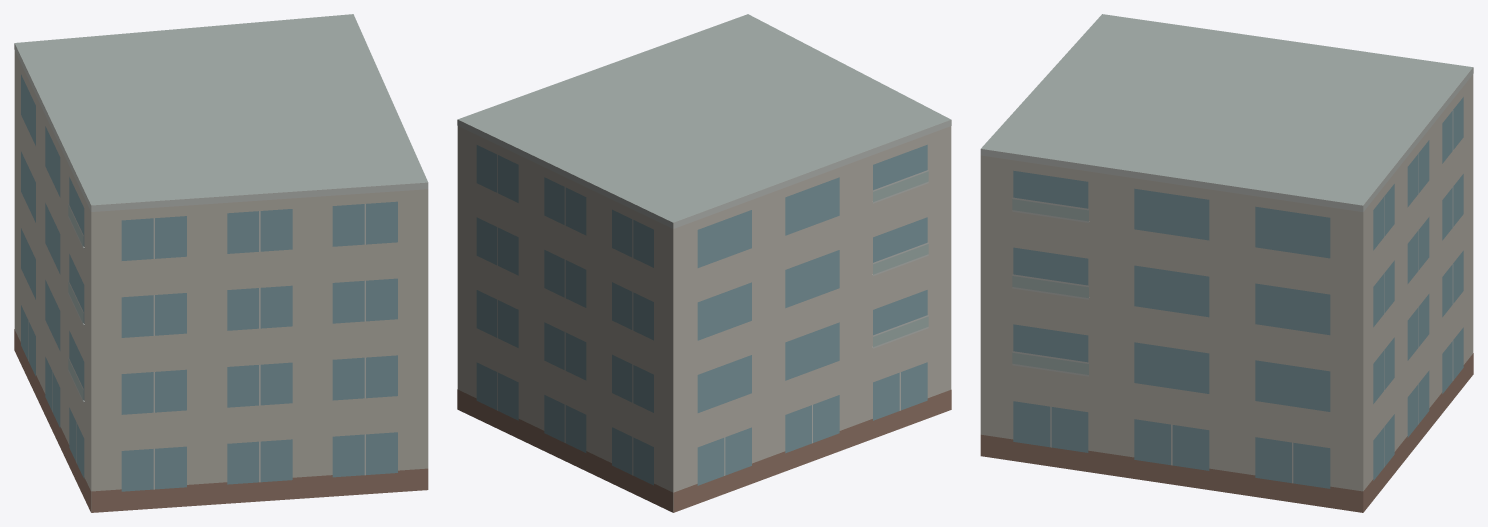
File: survey-upis-32663504.glb
3 renders of one model, left to right at view 1: azimuth 30°, elevation 25°; view 2: azimuth 150°, elevation 25°; view 3: azimuth 270°, elevation 25°, orthographic. The views are drawn at different scales.
Parts seen in each view (by area): view 1: survey-upis-32663504.tmp; view 2: survey-upis-32663504.tmp; view 3: survey-upis-32663504.tmp.
Boxes of the visible parts, x1=… form: survey-upis-32663504.tmp: x1=14, y1=14, x2=428, y2=512; survey-upis-32663504.tmp: x1=457, y1=14, x2=951, y2=512; survey-upis-32663504.tmp: x1=980, y1=14, x2=1473, y2=512.
Bounding box in the file's own units: 15.12 × 11.3 × 16.43.
